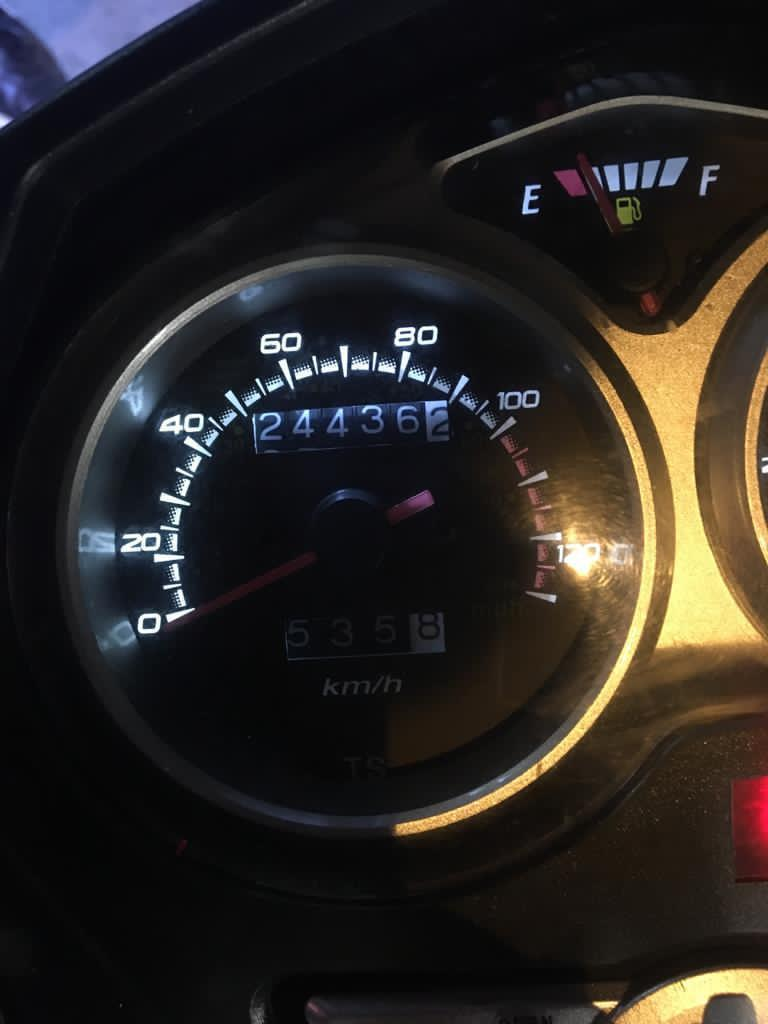2: (258, 410, 283, 441), (429, 406, 452, 436)
3: (360, 404, 385, 435)
4: (325, 407, 349, 438), (291, 408, 314, 438)
6: (396, 404, 420, 434)
odometer: (249, 399, 452, 456)
